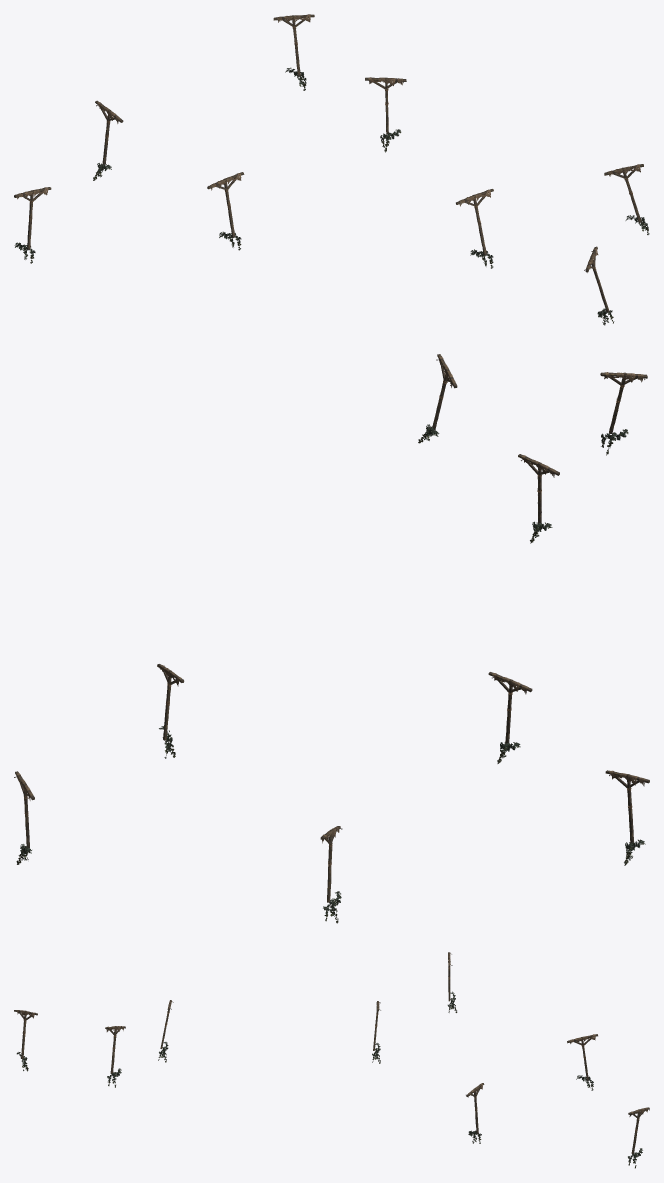
File: cemetryprop.fbx
3 renders of one model, top to bottom at view 1: azimuth 30°, elevation 25°; view 2: azimuth 150°, elevation 25°; view 3: azimuth 270°, elevation 25°, orthographic. The views are drawn at different scales.
Visible parts, largest first — view 1: o210051_2_6, o210051_2_3, o210051_2_1, o210051_2_2, o210051_2_7, o210051_2_5, o210051_2; view 2: no part large enough to name; view 3: no part large enough to name.
Part boxes in pixels (<box>): o210051_2_6: <box>456,189,493,268</box>; o210051_2_3: <box>273,14,314,90</box>; o210051_2_1: <box>207,172,244,250</box>; o210051_2_2: <box>365,77,406,152</box>; o210051_2_7: <box>14,187,51,263</box>; o210051_2_5: <box>604,164,649,234</box>; o210051_2: <box>93,100,123,180</box>.
Bounding box in the file's own units: 201899 × 89023 × 348995.
Materials: 16 (16 with a texture image).
